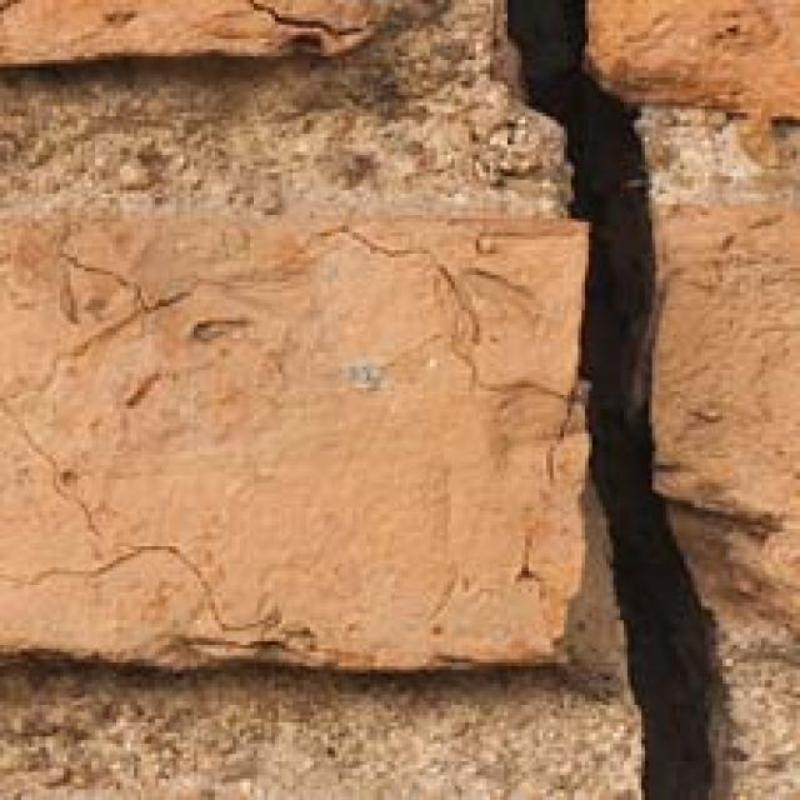pothole: (508, 0, 720, 799)
